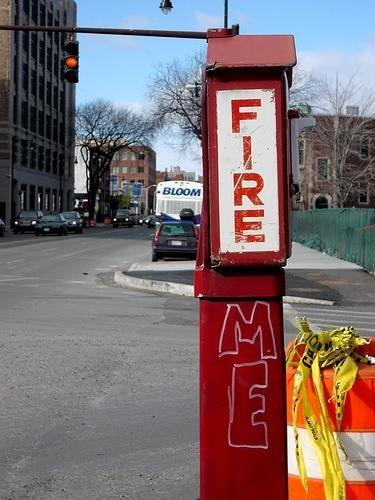car: (151, 222, 199, 262), (13, 210, 44, 234), (34, 215, 68, 236), (61, 212, 82, 235), (113, 210, 134, 228), (139, 214, 156, 228)
truck: (155, 178, 204, 233)
